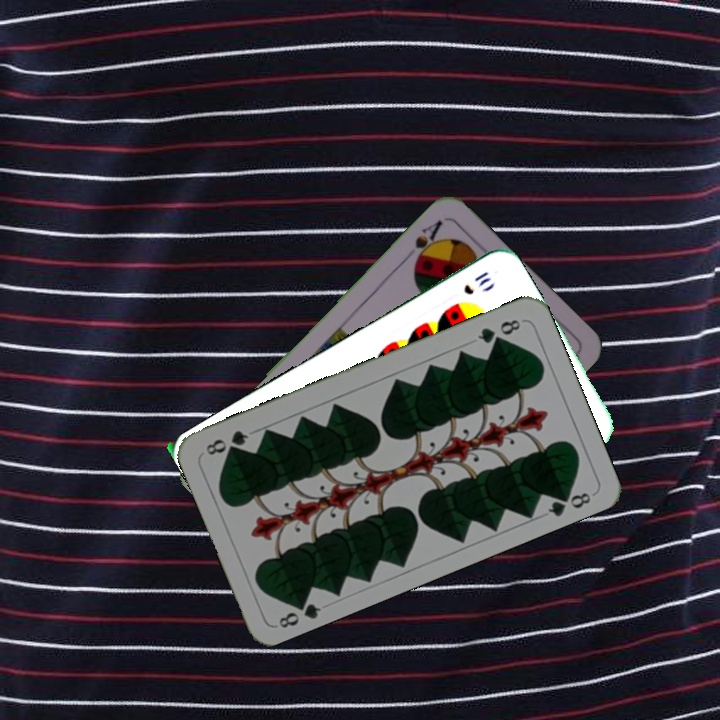G8: (273, 593, 324, 631), (473, 315, 523, 346)
S10: (459, 267, 494, 298)
SA: (409, 216, 446, 269)
